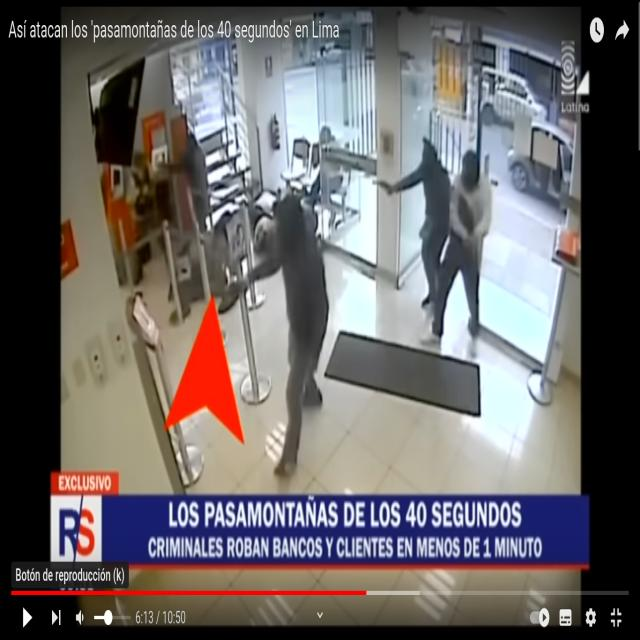Pistol: (370, 174, 394, 197)
